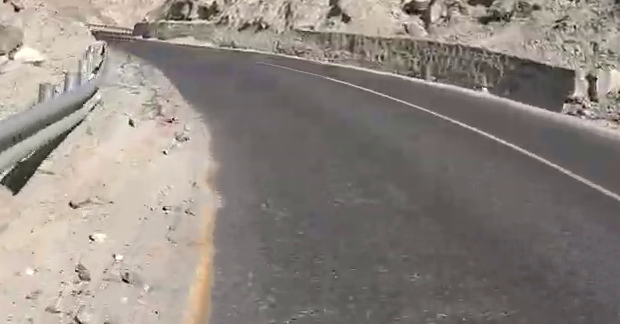right: (166, 37, 590, 264)
